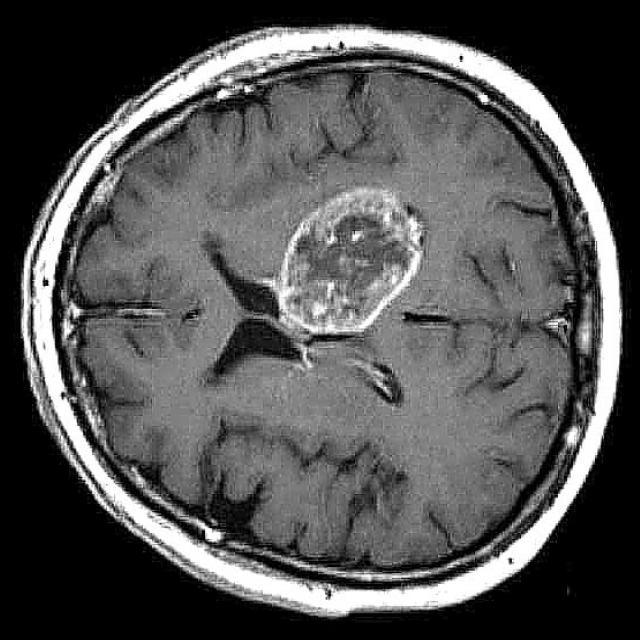tumor: (243, 186, 423, 347)
